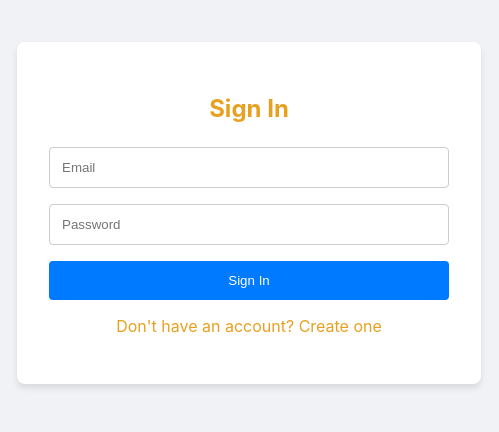
Login Component › validates email format
Type "invalid-email" into the field labelled "Email". click: point(249, 168)
box: [49,147,449,188]
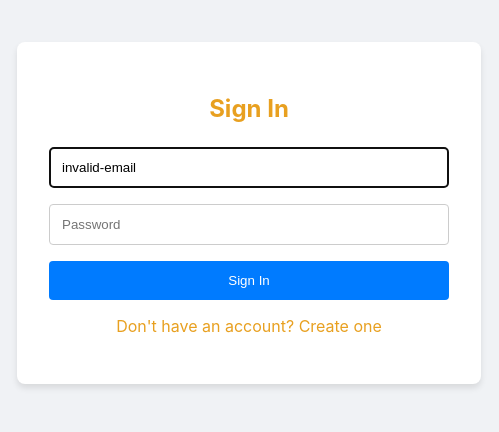
Type "password123" into the password field labelled "Password". click: point(249, 224)
box: [49,204,449,245]
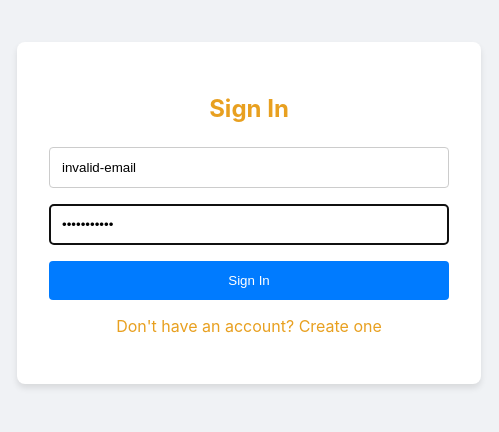
Submit the form with test id "signin-form", box [49,74,449,352]
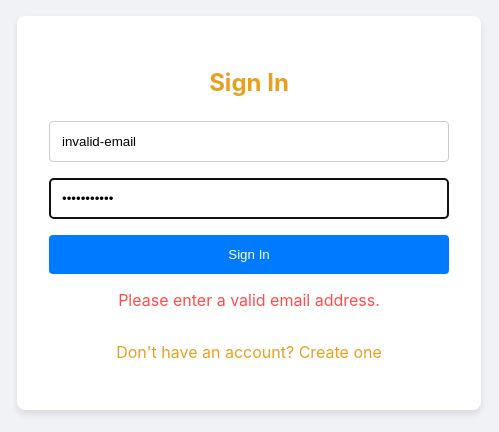
Check: the text "Please enter a valid email address." is shown, box [118,290,380,310]
